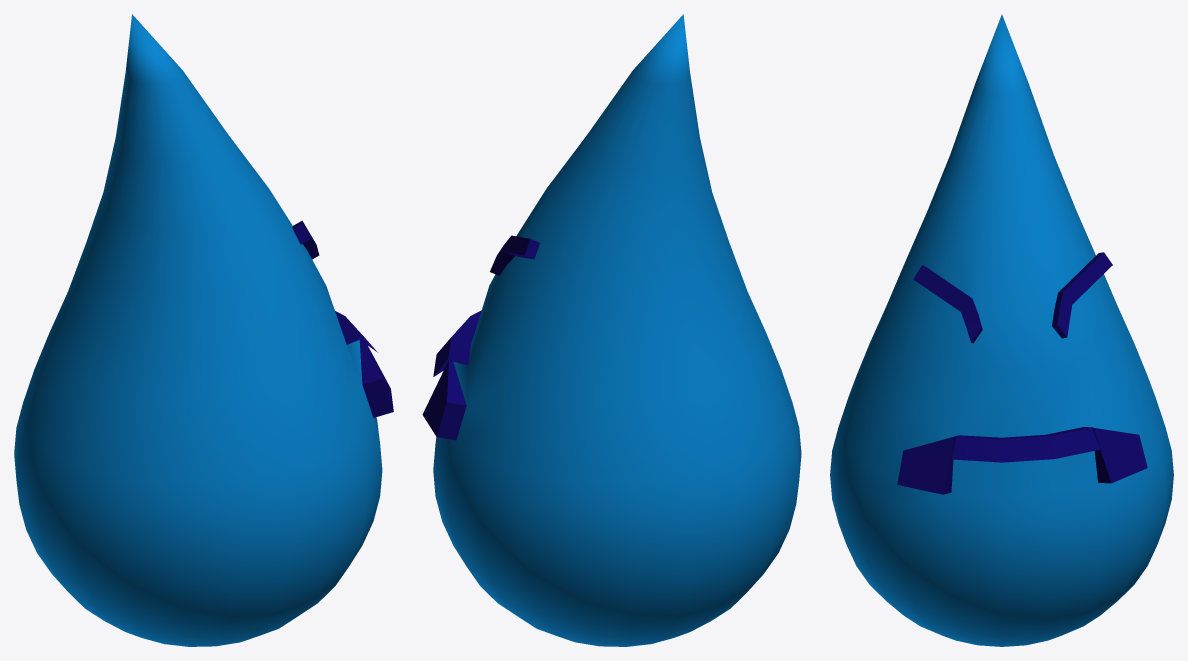
Rendered from waterdrop.gltf.
3 renders of one model, left to right at view 1: azimuth 30°, elevation 25°; view 2: azimuth 150°, elevation 25°; view 3: azimuth 270°, elevation 25°, orthographic. The views are drawn at different scales.
Parts seen in each view (by area): view 1: waterDrop; view 2: waterDrop; view 3: waterDrop.
Part boxes in pixels (x1,y1,x2,y2): waterDrop: (14, 14, 393, 646); waterDrop: (422, 14, 801, 646); waterDrop: (830, 14, 1173, 646).
Bounding box in the file's own units: 2 × 3.77 × 2.
